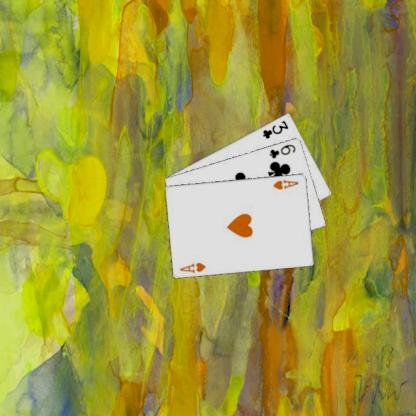3C: (260, 117, 290, 140)
6C: (266, 141, 296, 160)
AH: (270, 176, 300, 191), (177, 260, 207, 274)
